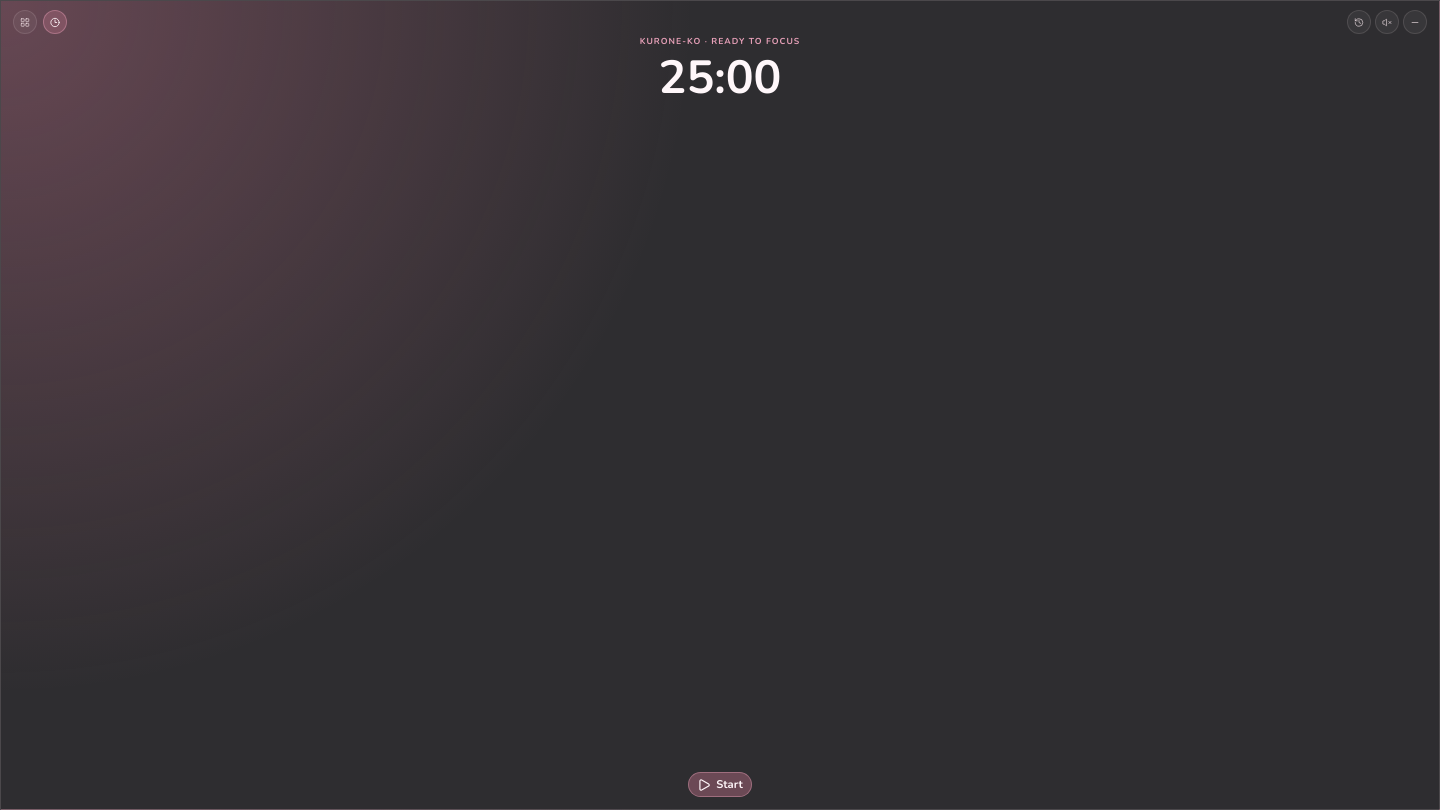
Test: TimerWidget › navigates between timer and history panels with no settings panel available
expect the button named "show timer" is empty: met, box [43, 10, 67, 34]
expect the button named "play kurone-ko playlist" is empty: met, box [1375, 10, 1399, 34]
Step 1. Click the button named "show history" → (1359,22), box [1347, 10, 1371, 34]
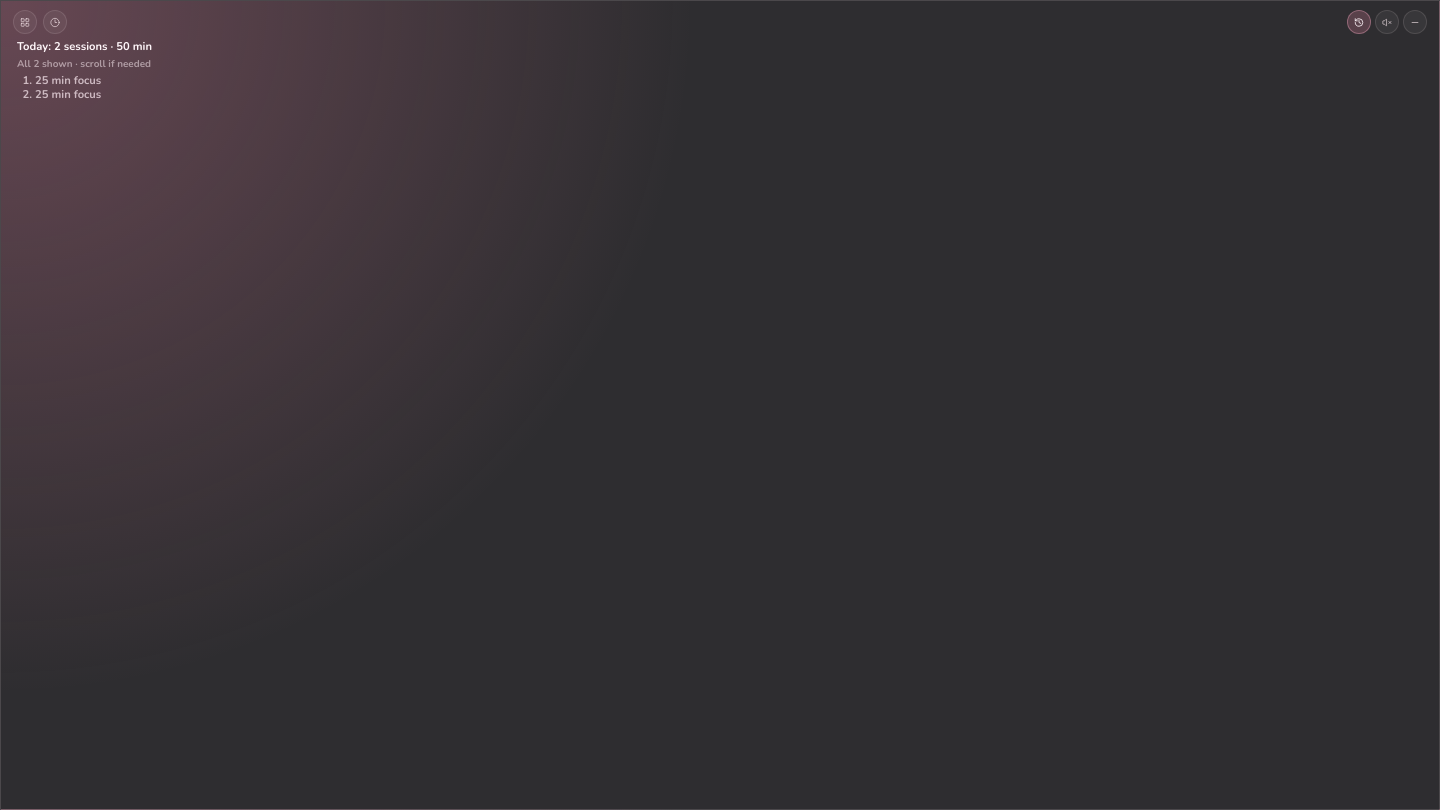
expect the element named "Today history" is shown: met, box [17, 39, 152, 102]
expect the text "Today: 2 sessions · 50 min" is shown: met, box [17, 39, 152, 54]
Step 2. Click the button named "show timer" → (55,22), box [43, 10, 67, 34]
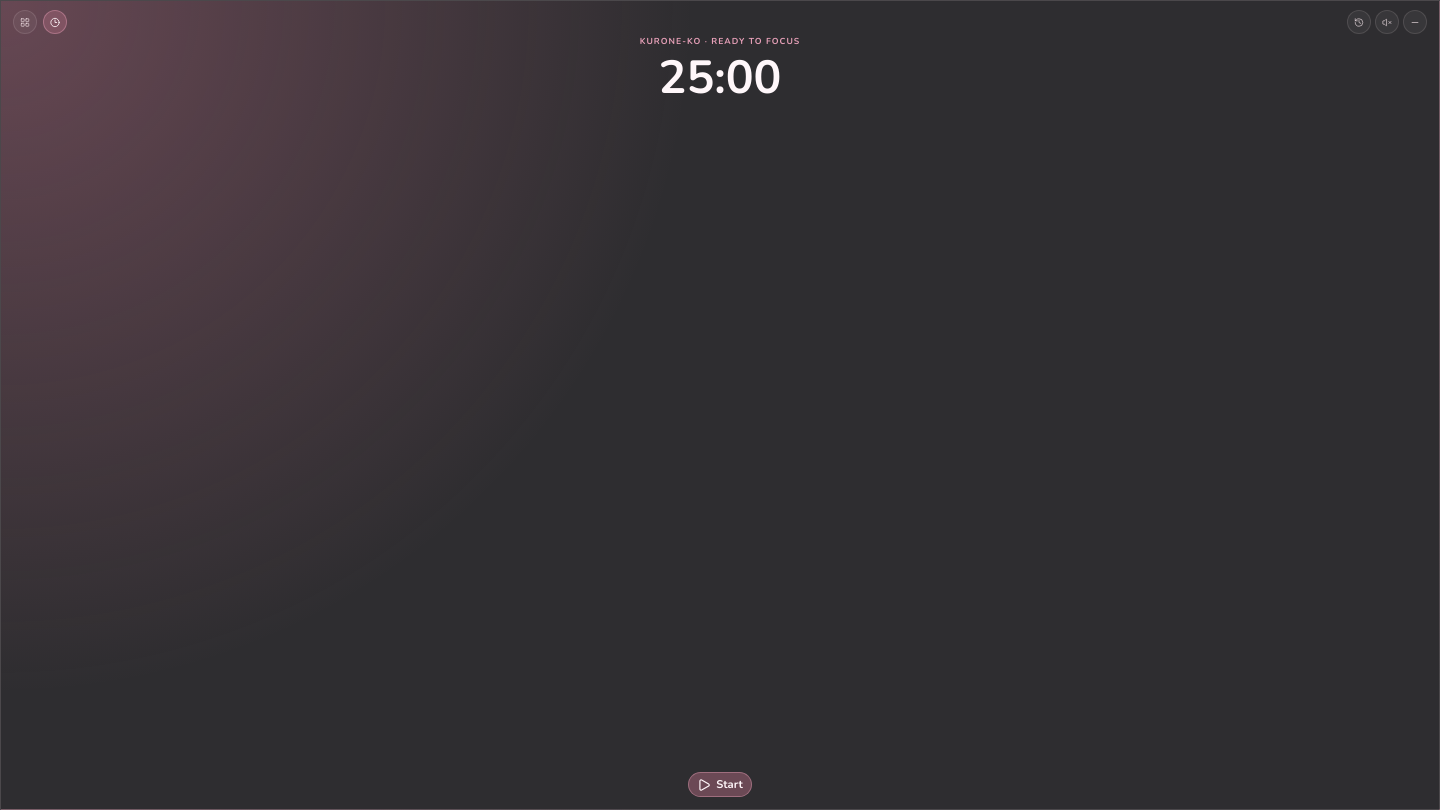
expect the text "KURONE-KO · Ready to focus" is shown: met, box [640, 35, 800, 47]
